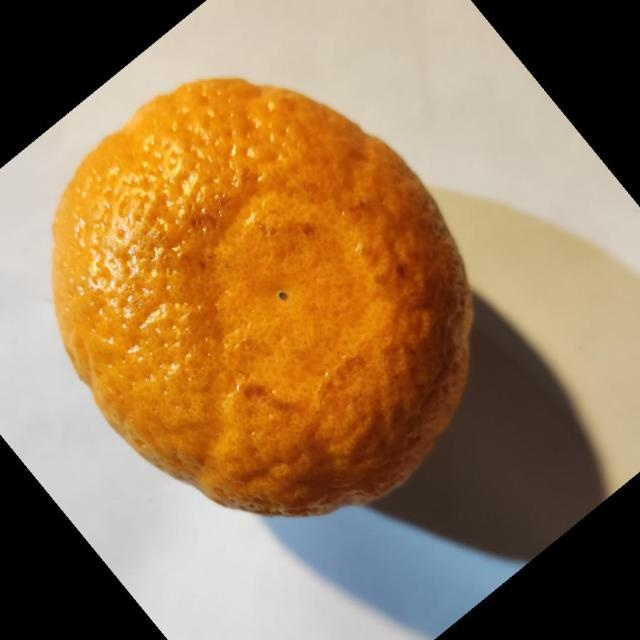agrume: (50, 75, 474, 518)
